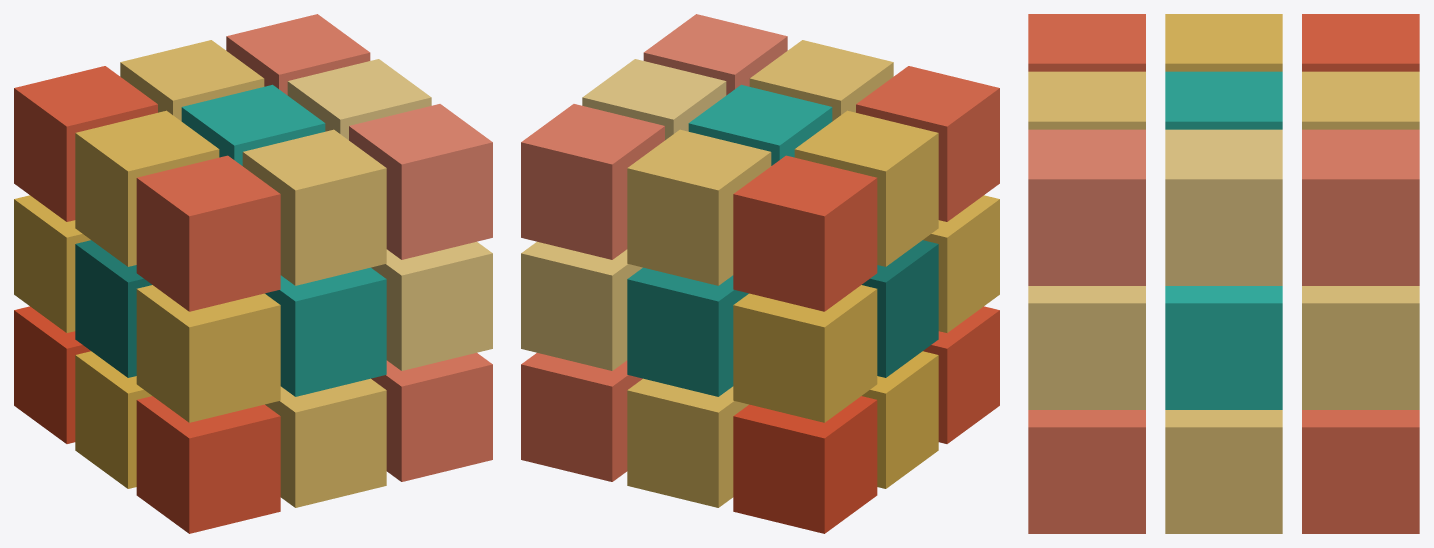
Rendered from cubes.glb.
3 renders of one model, left to right at view 1: azimuth 30°, elevation 25°; view 2: azimuth 150°, elevation 25°; view 3: azimuth 270°, elevation 25°, orthographic. The views are drawn at different scales.
Visible parts, largest first — view 1: cube22, cube20, cube9, cube14, cube26, cube24, cube4, cube17, cube12, cube10, cube21, cube1 (+7 smaller); view 2: cube21, cube19, cube8, cube13, cube25, cube23, cube3, cube16, cube11, cube10, cube22, cube1 (+7 smaller); view 3: cube18, cube25, cube26, cube6, cube15, cube16, cube17, cube23, cube24, cube5, cube13, cube14 (+3 smaller).
Boxes of the visible parts, x1,y1,x2,y2 form: cube22: [136, 155, 280, 311]; cube20: [136, 396, 280, 533]; cube9: [136, 285, 280, 422]; cube14: [242, 129, 386, 285]; cube26: [349, 104, 492, 259]; cube24: [371, 353, 492, 481]; cube4: [265, 267, 386, 396]; cube17: [371, 241, 492, 370]; cube12: [265, 378, 386, 507]; cube10: [75, 110, 219, 266]; cube21: [14, 66, 157, 221]; cube1: [75, 240, 151, 377]; cube21: [733, 155, 877, 311]; cube19: [733, 396, 877, 533]; cube8: [733, 285, 877, 422]; cube13: [627, 129, 771, 285]; cube25: [521, 104, 664, 259]; cube23: [521, 353, 642, 481]; cube3: [627, 267, 748, 396]; cube16: [521, 241, 642, 370]; cube11: [627, 378, 748, 507]; cube10: [794, 110, 938, 266]; cube22: [856, 66, 999, 221]; cube1: [862, 240, 938, 377]; cube18: [1165, 129, 1282, 285]; cube25: [1302, 129, 1419, 285]; cube26: [1028, 129, 1145, 285]; cube6: [1165, 286, 1282, 409]; cube15: [1165, 410, 1282, 533]; cube16: [1302, 286, 1419, 409]; cube17: [1028, 286, 1145, 409]; cube23: [1302, 410, 1419, 533]; cube24: [1028, 410, 1145, 533]; cube5: [1165, 71, 1282, 129]; cube13: [1302, 71, 1419, 129]; cube14: [1028, 71, 1145, 129].
Size of the model in its own units: 2.86 by 2.86 by 2.86.
